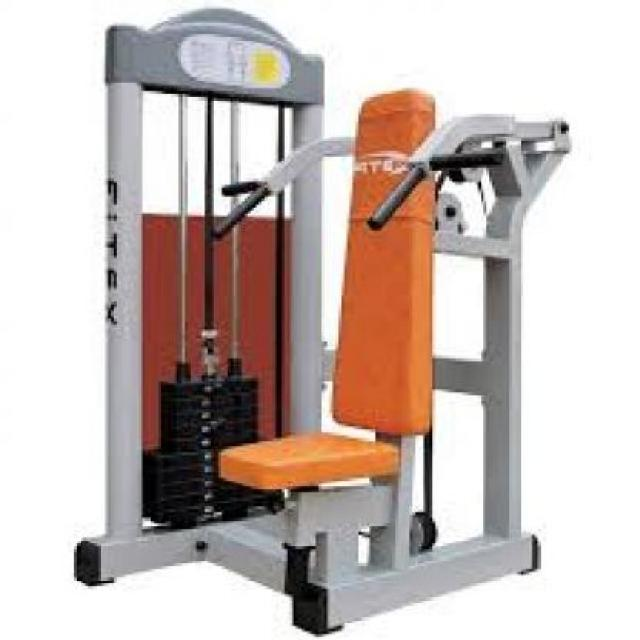shoulder press machine: (72, 0, 551, 640)
